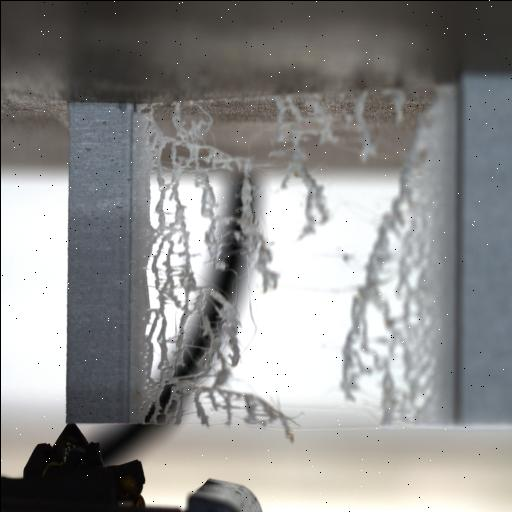stringing: (154, 109, 304, 439), (338, 98, 440, 426), (268, 96, 332, 246)
